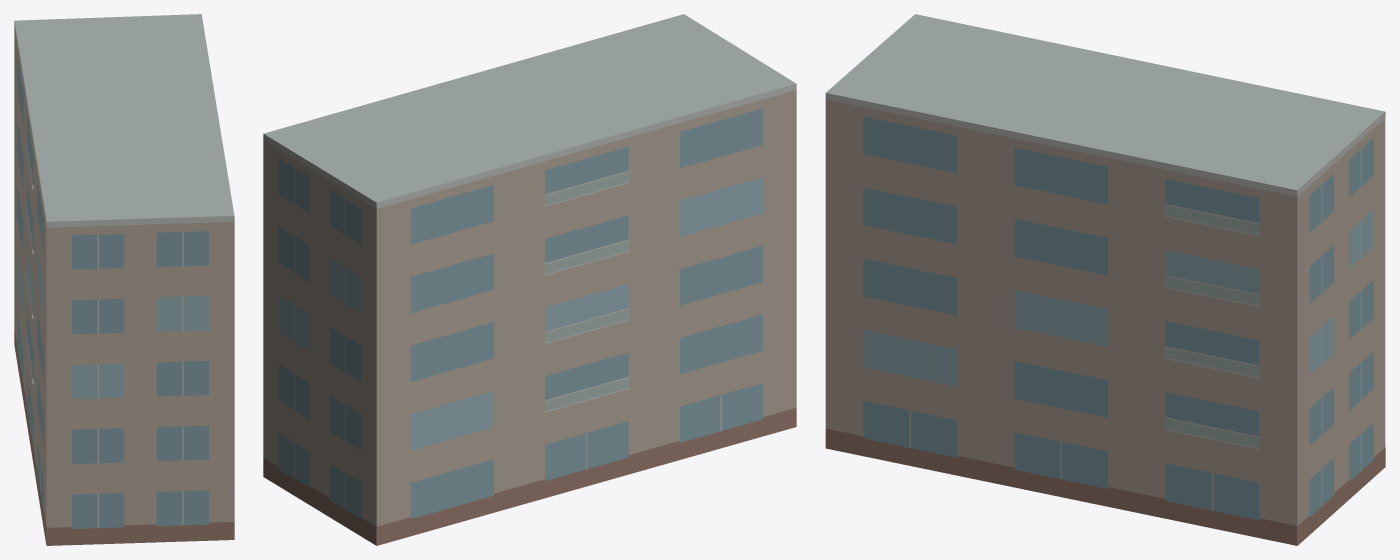
File: survey-upis-33027417.glb
3 views of the same model, side by side, from view 1: azimuth 30°, elevation 25°; view 2: azimuth 150°, elevation 25°; view 3: azimuth 270°, elevation 25° (orthographic). The views are drawn at different scales.
Visible parts, largest first — view 1: survey-upis-33027417.tmp; view 2: survey-upis-33027417.tmp; view 3: survey-upis-33027417.tmp.
Part boxes in pixels (x1=…): survey-upis-33027417.tmp: x1=14, y1=14, x2=234, y2=545; survey-upis-33027417.tmp: x1=263, y1=14, x2=796, y2=545; survey-upis-33027417.tmp: x1=825, y1=14, x2=1385, y2=545.
Bounding box in the file's own units: 14.31 × 13.45 × 19.2.
